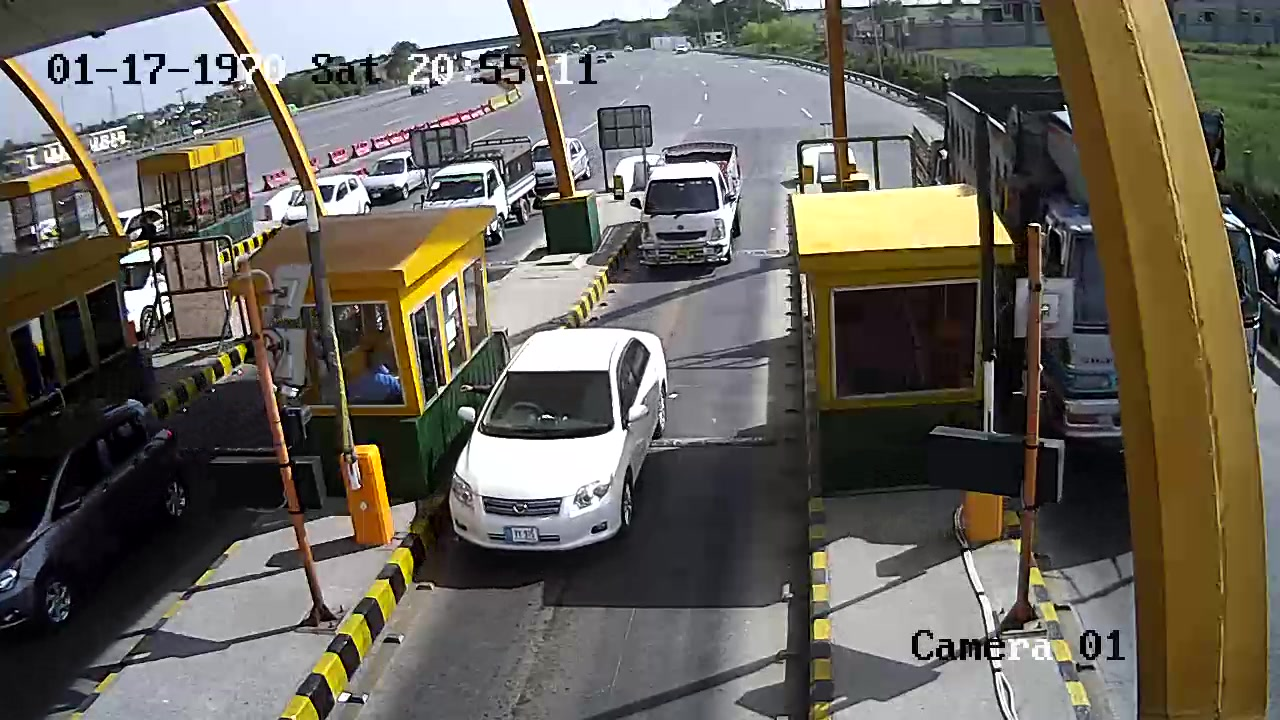F1: (448, 313, 667, 557)
